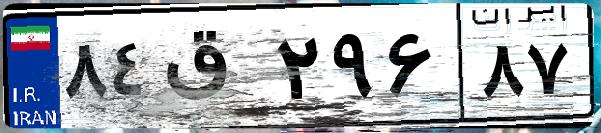2: (270, 28, 330, 110)
4: (110, 28, 158, 98)
6: (385, 28, 445, 110)
7: (525, 38, 570, 115)
8: (57, 26, 110, 100), (475, 38, 525, 113)
9: (330, 28, 385, 110)
ق: (158, 20, 270, 120)
